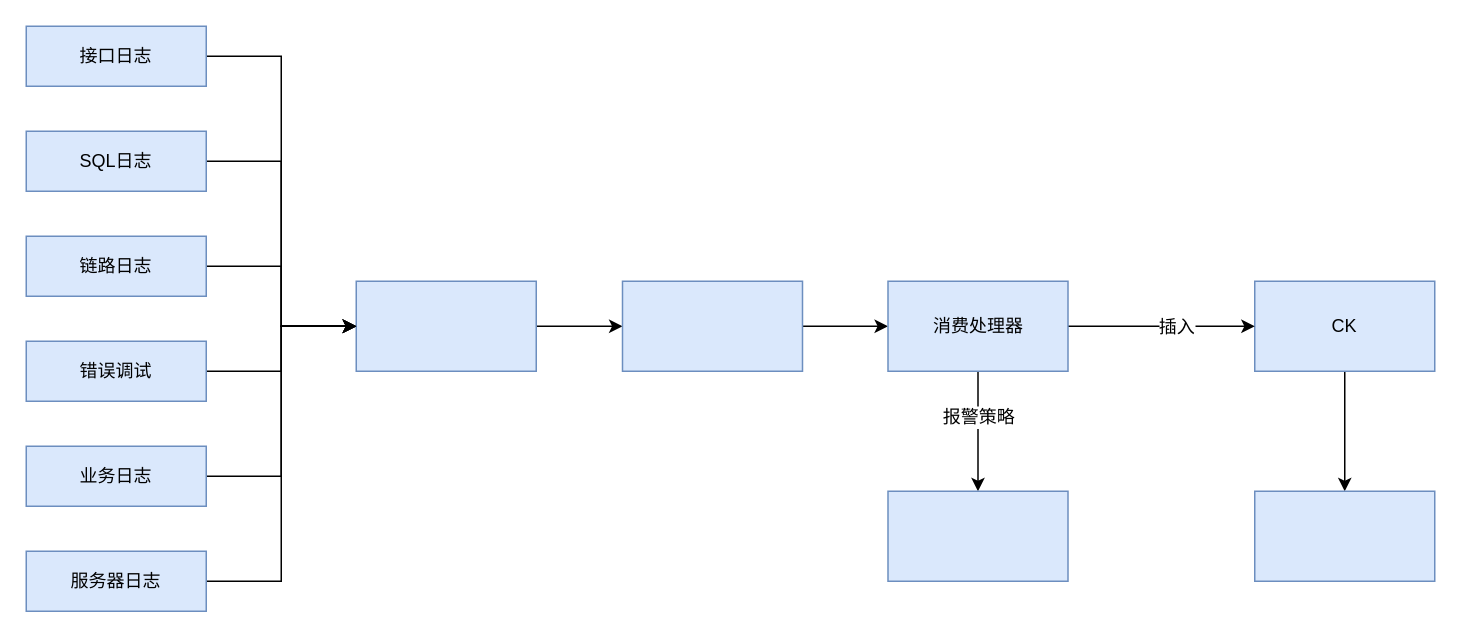
Image size: 1461x638. Some labels were removed from this diagram. The centre of each missing label's shape, as x and y in pixels:
"Kafka" goes at (x=711, y=325).
"展示搜索" goes at (x=1344, y=535).
"报警" goes at (x=977, y=535).
"日志收集器" goes at (x=445, y=325).
